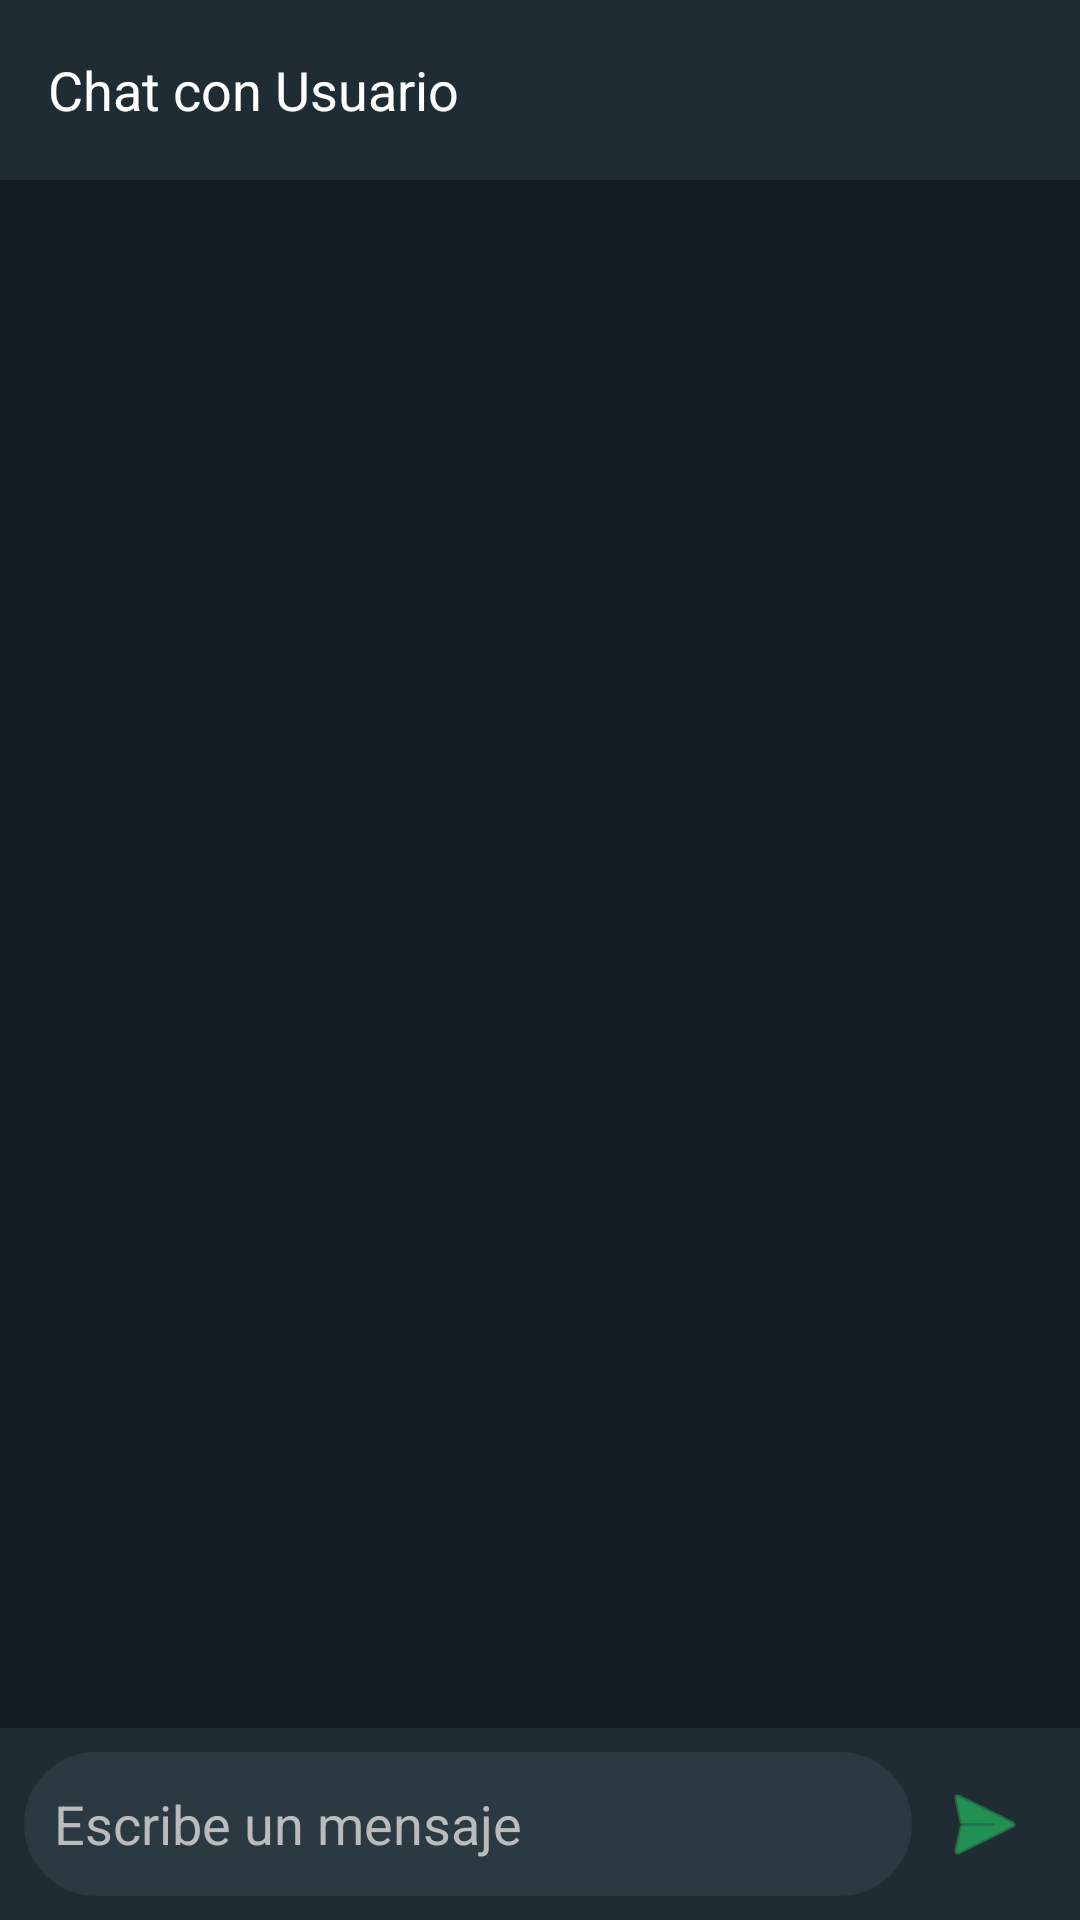

Screen size 1080w x 1920h. Icon name, then its box in pixels as (x1, y1, x2, y2):
Enviar mensaje: (954, 1794, 1015, 1855)
